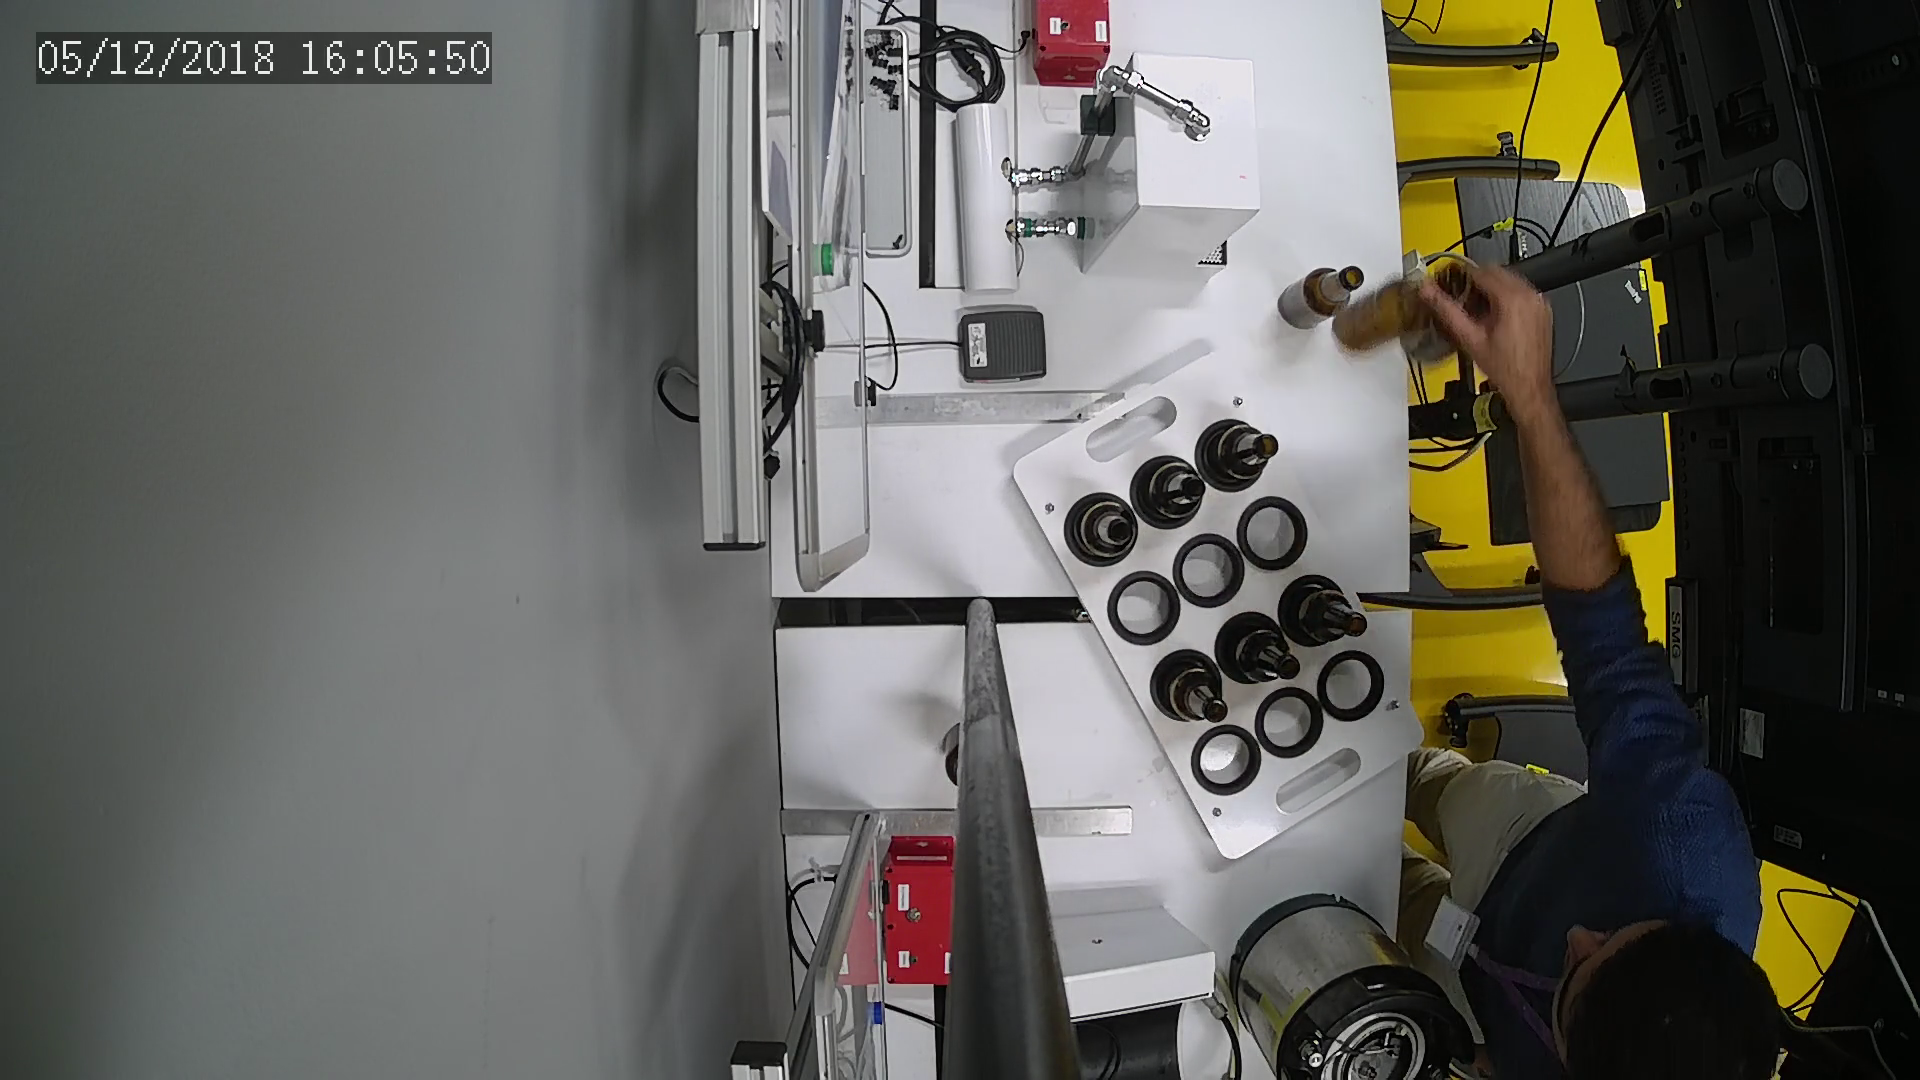filled_bottle: (1216, 611, 1303, 694), (1147, 649, 1232, 732), (1280, 574, 1374, 647), (1131, 455, 1211, 531), (1203, 418, 1280, 493), (1064, 493, 1139, 566)
trolley: (1006, 343, 1437, 862)
unfilled_bottle: (1276, 265, 1364, 332)
